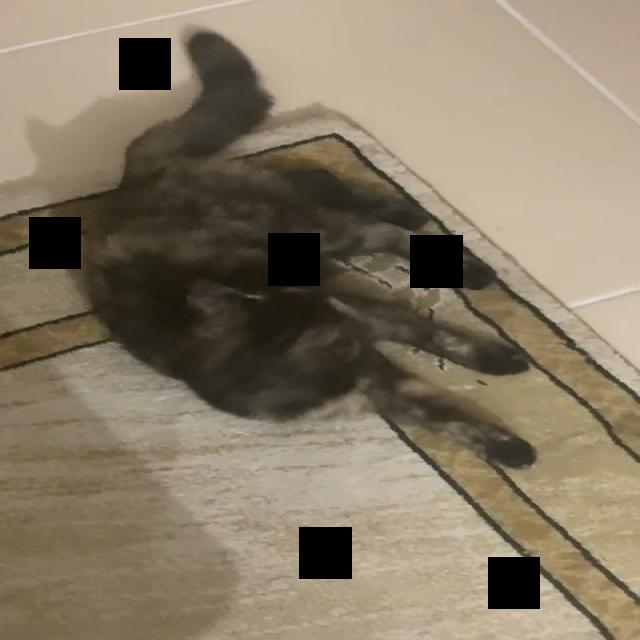authorized: (80, 22, 539, 470)
